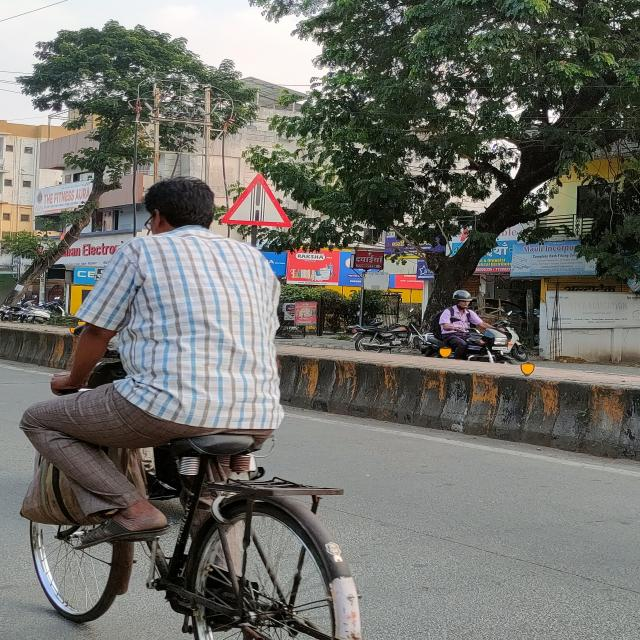GAP_IN_MEDIAN: (220, 172, 291, 226)
